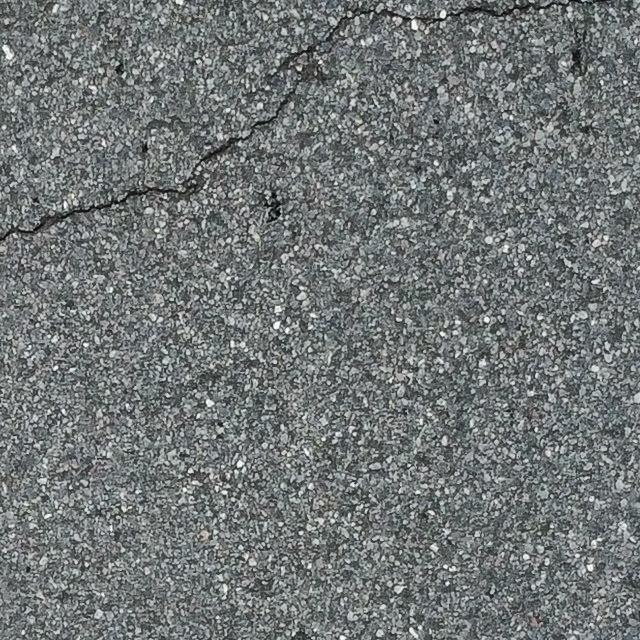TransverseCrack: (1, 1, 587, 240)
